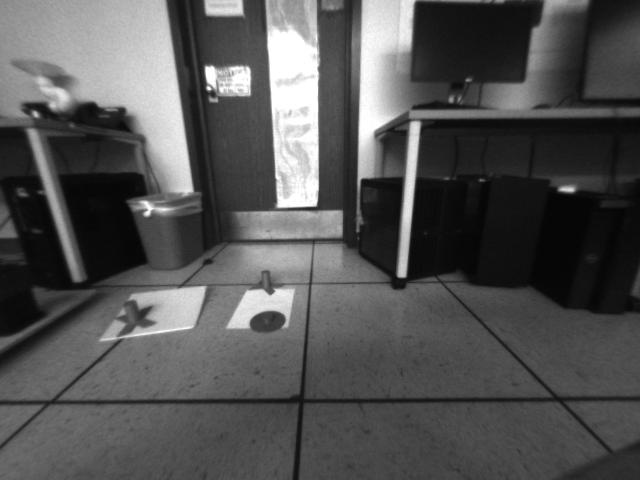X: (114, 298, 155, 338), (248, 269, 284, 295)
